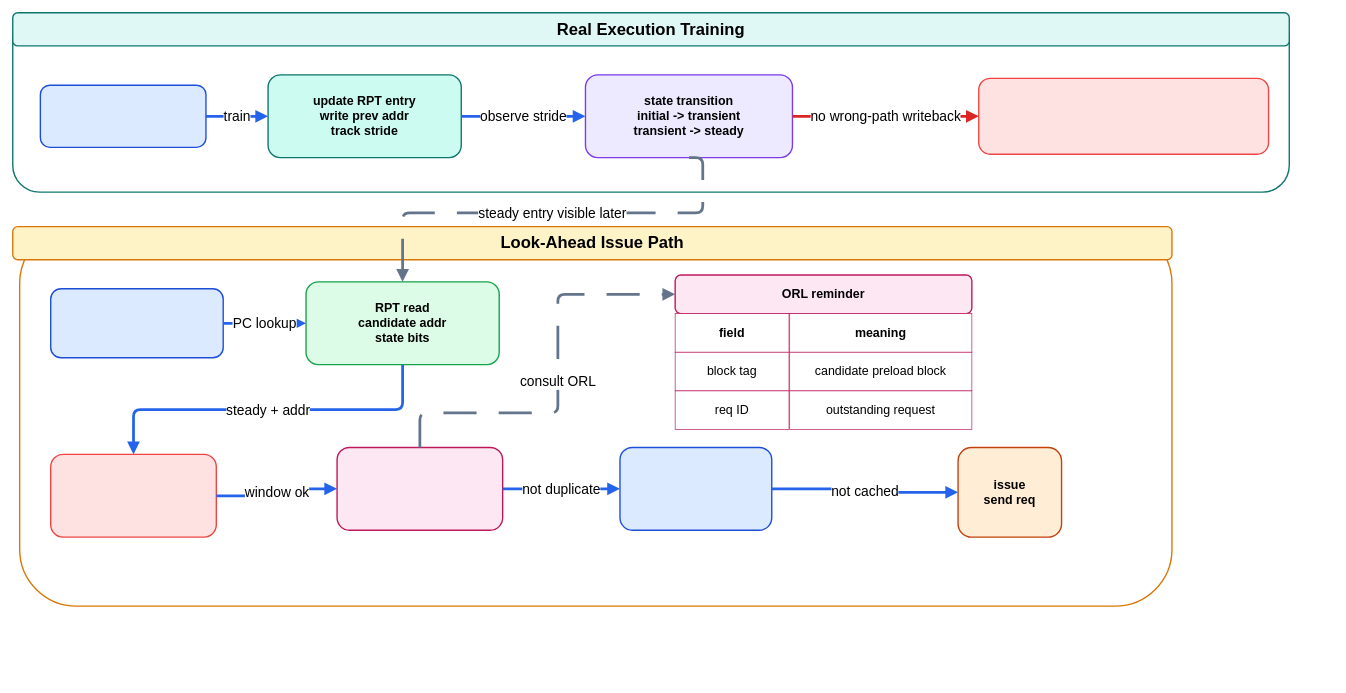
Image size: 1346x693. Some labels were removed from this diagram. Here are the shapes that lost their labels. From the top down, the centre of each, then its label:
At point 122,116: "retired load/store real addr appears".
At point 1123,116: "wrong-path protection LA-PC never trains history".
At point 137,323: "future load/store PC seen by LA-PC".
At point 133,495: "distance gate distance < d".
At point 419,488: "ORL duplicate gate CAM reject".
At point 695,488: "cache-present gate miss only".
